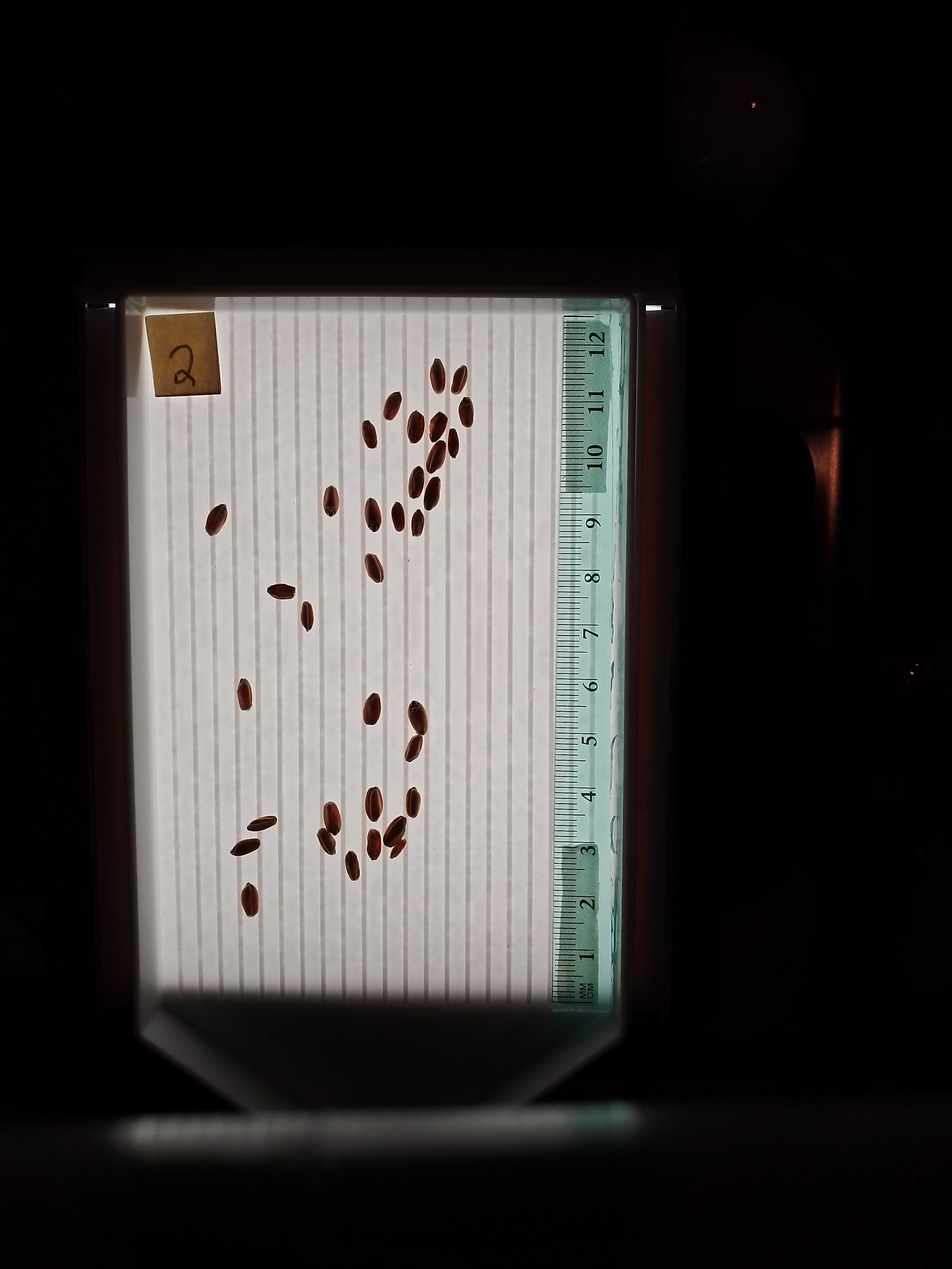seed mask: (205, 505, 228, 536), (408, 701, 428, 736), (384, 816, 406, 847), (365, 787, 383, 821), (241, 884, 259, 917), (323, 802, 341, 835), (363, 694, 382, 725), (427, 441, 446, 472), (231, 838, 260, 857), (365, 499, 382, 531), (407, 411, 424, 443), (430, 359, 446, 393), (365, 555, 384, 583), (424, 477, 440, 510), (429, 412, 447, 441), (323, 486, 340, 516), (237, 679, 253, 710), (408, 467, 424, 498), (318, 828, 336, 855), (405, 735, 423, 762), (248, 815, 276, 832), (384, 392, 401, 420), (361, 421, 378, 448), (367, 830, 382, 860), (451, 366, 467, 394), (345, 852, 360, 881), (406, 788, 421, 817), (459, 398, 474, 427), (268, 584, 295, 599), (391, 504, 405, 532), (301, 602, 314, 630), (411, 512, 424, 536), (448, 429, 459, 457)
